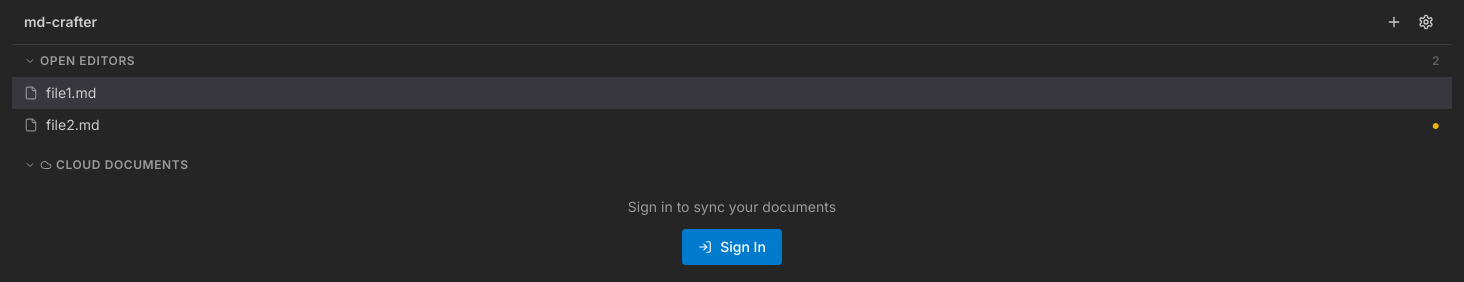
Test: Sidebar › Open Tabs Section › should toggle open tabs section
The image size is (1464, 282).
Check: the text "file1.md" is shown, box [46, 84, 96, 101]
Click the button "OPEN EDITORS 2" at (88, 60), box [12, 45, 1452, 77]
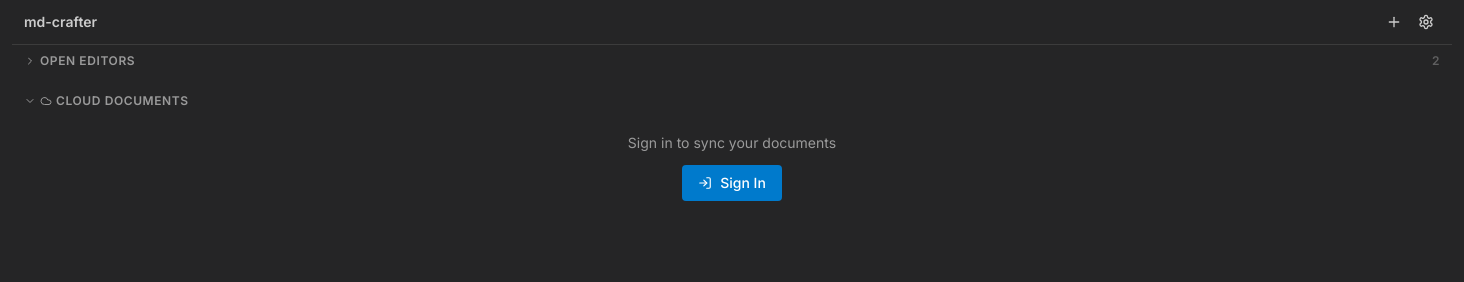
Check: the text "file1.md" is gone
